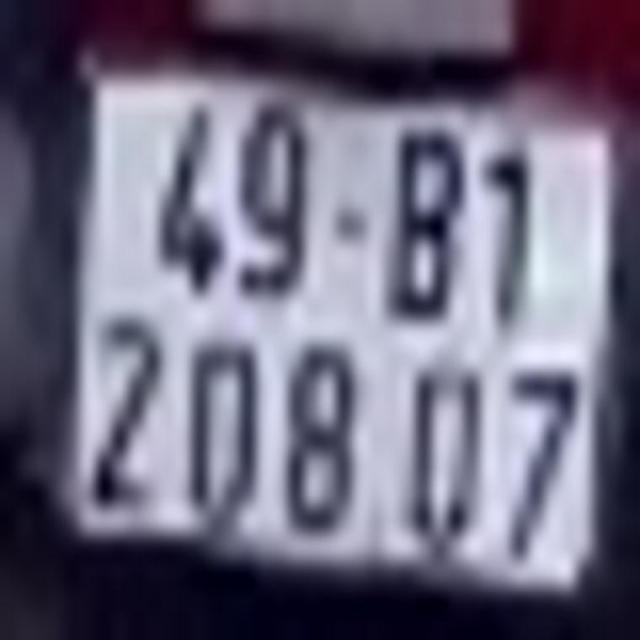0: (408, 358, 486, 564), (186, 337, 258, 537)
1: (478, 153, 532, 336)
2: (92, 316, 167, 509)
4: (156, 102, 226, 294)
7: (506, 364, 579, 567)
8: (283, 338, 352, 537)
9: (236, 101, 305, 298)
B: (396, 130, 464, 332)
